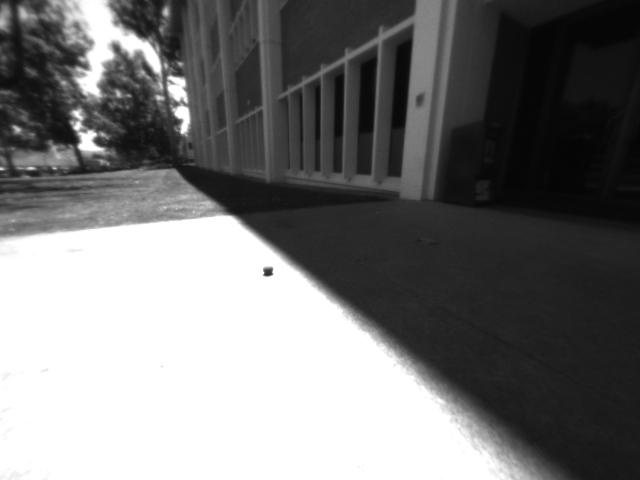dogtoy: (257, 259, 280, 282)
